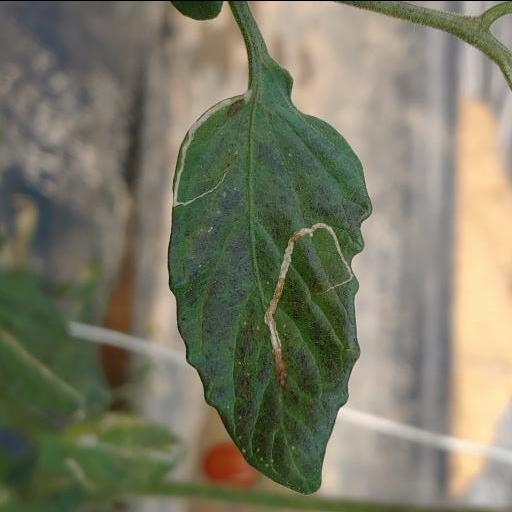Leaf Miner: (166, 91, 375, 495)
